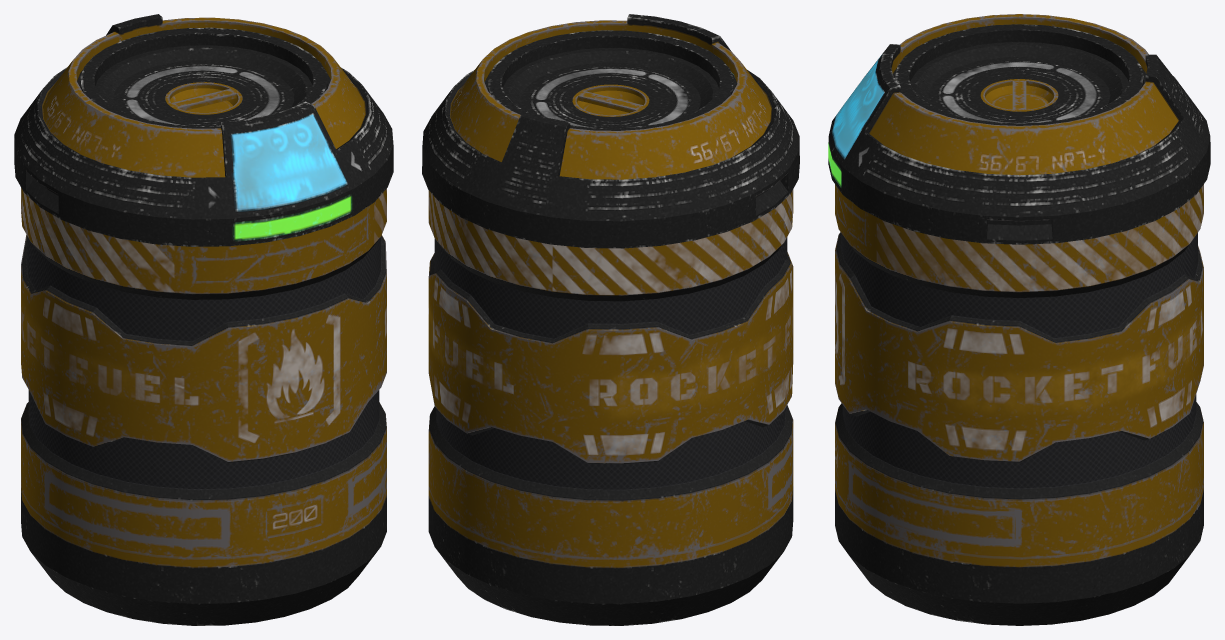
The model's file is sci-fi-barrel.glb.
3 views of the same model, side by side, from view 1: azimuth 30°, elevation 25°; view 2: azimuth 150°, elevation 25°; view 3: azimuth 270°, elevation 25° (orthographic).
Parts seen in each view (by area): view 1: Barrel_low, Cap_low, Bung_low; view 2: Barrel_low, Cap_low, Bung_low; view 3: Barrel_low, Cap_low, Bung_low.
Part boxes in pixels (left/top/right/bottom): Barrel_low: left=14, top=14, right=393, bottom=625; Cap_low: left=77, top=27, right=330, bottom=128; Bung_low: left=165, top=82, right=242, bottom=114; Barrel_low: left=422, top=14, right=799, bottom=625; Cap_low: left=484, top=30, right=737, bottom=130; Bung_low: left=572, top=84, right=649, bottom=116; Barrel_low: left=828, top=14, right=1210, bottom=625; Cap_low: left=893, top=24, right=1145, bottom=125; Bung_low: left=980, top=79, right=1058, bottom=111.
Bounding box in the file's own units: 1.06 × 1.5 × 1.06.
Materials: 1 (1 with a texture image).
